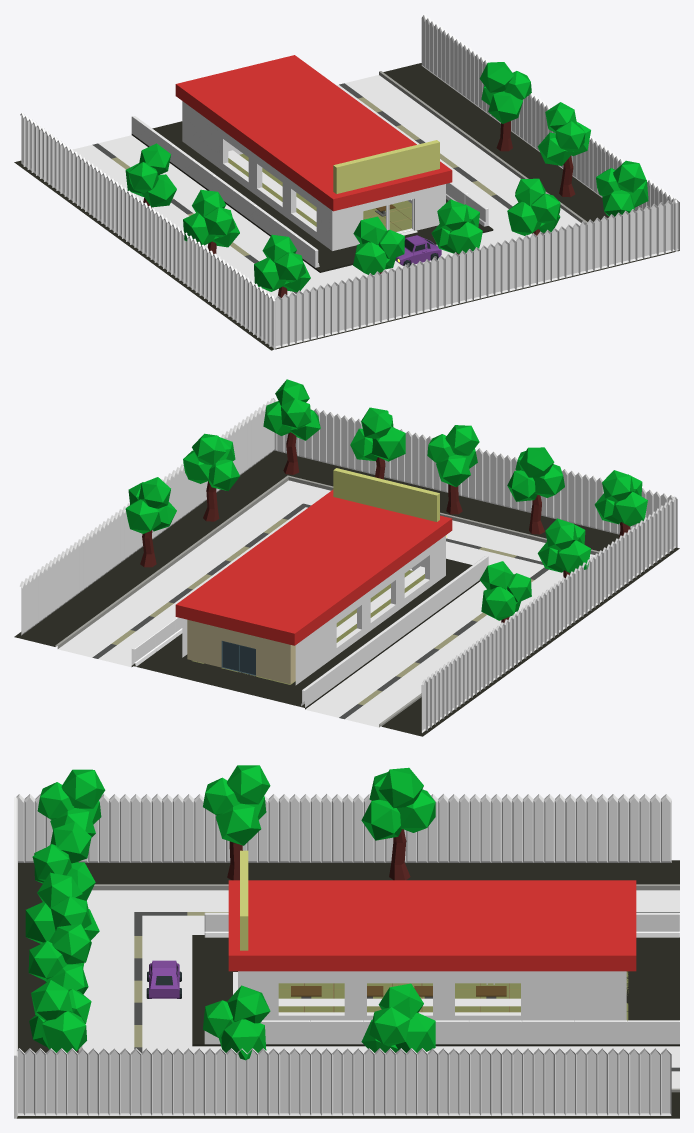
The picture shows the model from 3 angles, top to bottom: view 1: azimuth 30°, elevation 25°; view 2: azimuth 150°, elevation 25°; view 3: azimuth 270°, elevation 25°; orthographic projection. The views are drawn at different scales.
Visible parts, largest first — view 1: Cube.001, Плоскость.004, Cylinder.004, Плоскость.009, Плоскость.001, Плоскость.005, Cube, Плоскость.008, Плоскость.010, Плоскость.011, Cube.005, Плоскость.003 (+1 smaller); view 2: Cube.001, Плоскость.004, Плоскость.009, Cylinder.004, Плоскость.001, Cube, Плоскость.005, Плоскость.006, Плоскость.010, Плоскость.007, Плоскость.003, Плоскость.013 (+1 smaller); view 3: Cube.001, Плоскость.004, Cylinder.004, Плоскость.001, Плоскость.009, Плоскость.005, Cube, Плоскость.011, Плоскость.010, Плоскость.013, Cube.005, Cube.002 (+1 smaller).
Part boxes in pixels (x1,y1,x2,y2): Cube.001: (20, 14, 679, 349); Плоскость.004: (175, 55, 452, 211); Cylinder.004: (125, 62, 648, 297); Плоскость.009: (73, 75, 580, 298); Плоскость.001: (14, 63, 679, 350); Плоскость.005: (182, 101, 332, 250); Cube: (131, 116, 488, 267); Плоскость.008: (332, 184, 445, 250); Плоскость.010: (92, 83, 544, 293); Плоскость.011: (228, 154, 411, 231); Cube.005: (395, 235, 441, 266); Плоскость.003: (223, 139, 411, 231); Cube.001: (19, 397, 677, 732); Плоскость.004: (175, 468, 452, 645); Плоскость.009: (58, 480, 594, 727); Cylinder.004: (125, 379, 647, 622); Плоскость.001: (14, 450, 679, 736); Cube: (131, 556, 488, 707); Плоскость.005: (182, 535, 445, 685); Плоскость.006: (187, 619, 295, 684); Плоскость.010: (92, 503, 548, 719); Плоскость.007: (221, 641, 255, 675); Плоскость.003: (336, 555, 429, 647); Плоскость.013: (336, 566, 424, 637); Cube.001: (14, 794, 671, 1118); Плоскость.004: (228, 850, 636, 971); Cylinder.004: (25, 765, 435, 1060); Плоскость.001: (17, 860, 679, 1118); Плоскость.009: (82, 890, 679, 1088); Плоскость.005: (238, 971, 626, 1020); Cube: (204, 912, 679, 1044); Плоскость.011: (278, 971, 628, 1020); Плоскость.010: (134, 912, 679, 1071); Плоскость.013: (278, 998, 520, 1006); Cube.005: (146, 960, 181, 998); Cube.002: (291, 986, 506, 998).
Bounding box in the file's own units: 3963 × 811 × 4320.
